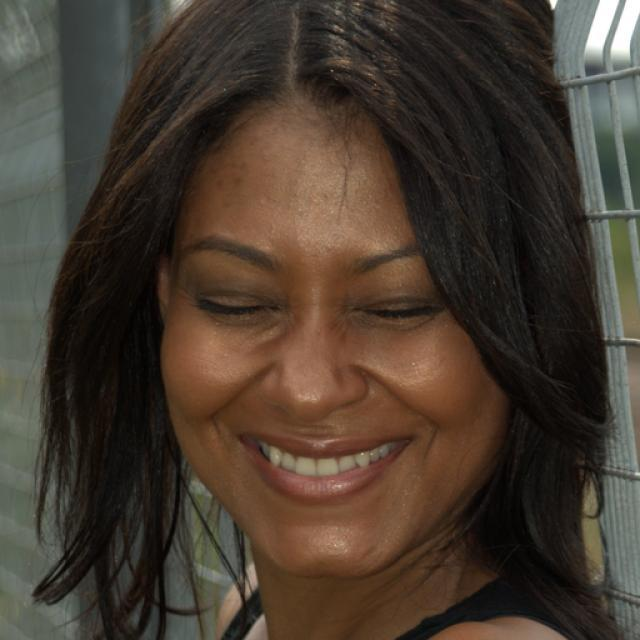happy: (158, 107, 516, 584)
